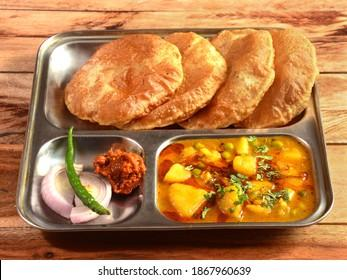puri: (61, 27, 326, 124)
